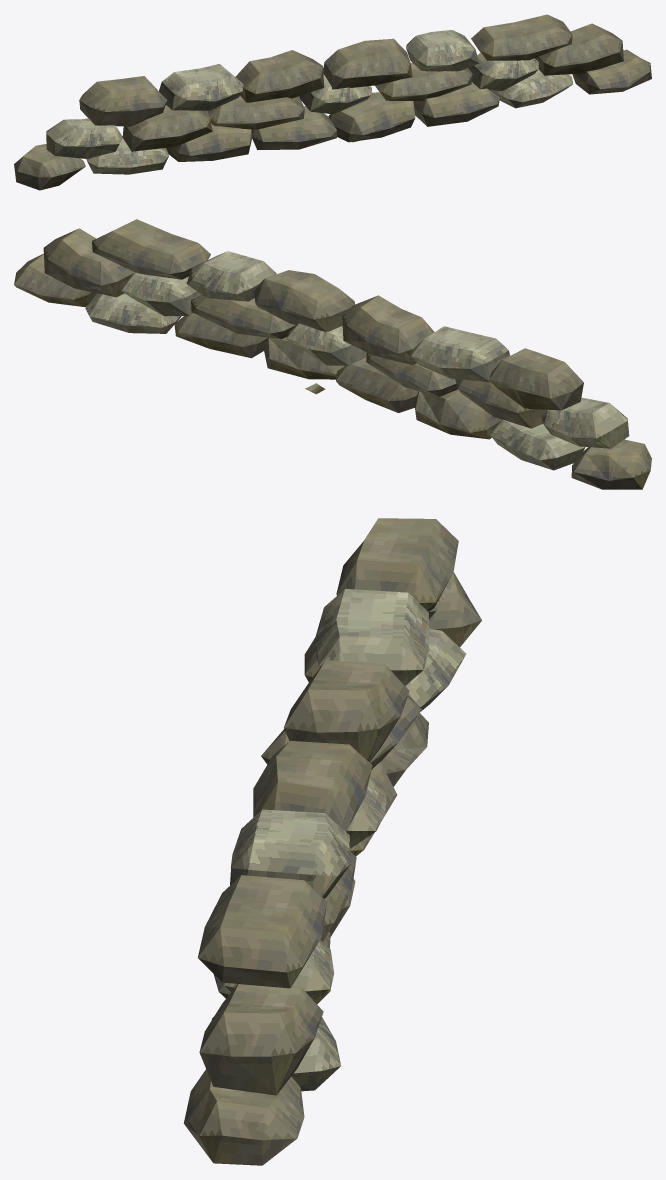
The model's file is C4SMSNDB2H.obj.
The picture shows the model from 3 angles, top to bottom: view 1: azimuth 30°, elevation 25°; view 2: azimuth 150°, elevation 25°; view 3: azimuth 270°, elevation 25°; orthographic projection. The views are drawn at different scales.
Visible parts, largest first — view 1: Node 7, Node 9, Node 6, Node 8, Node 5; view 2: Node 9, Node 7, Node 8, Node 6, Node 5; view 3: Node 9, Node 6, Node 8, Node 7, Node 5.
Part boxes in pixels (x1,y1,x2,y2): Node 7: (166,50,415,161); Node 9: (413,14,651,126); Node 6: (79,64,243,151); Node 8: (323,30,479,100); Node 5: (14,118,168,190); Node 9: (14,219,268,358); Node 7: (264,295,502,439); Node 8: (186,251,354,339); Node 6: (411,326,583,428); Node 5: (490,397,651,489); Node 9: (183,875,340,1165); Node 6: (304,518,458,685); Node 8: (230,741,372,941); Node 7: (230,660,428,936); Node 5: (405,572,481,711).
Size of the model in its own units: 7.72 by 1.17 by 1.71.
Materials: 11 (11 with a texture image).
